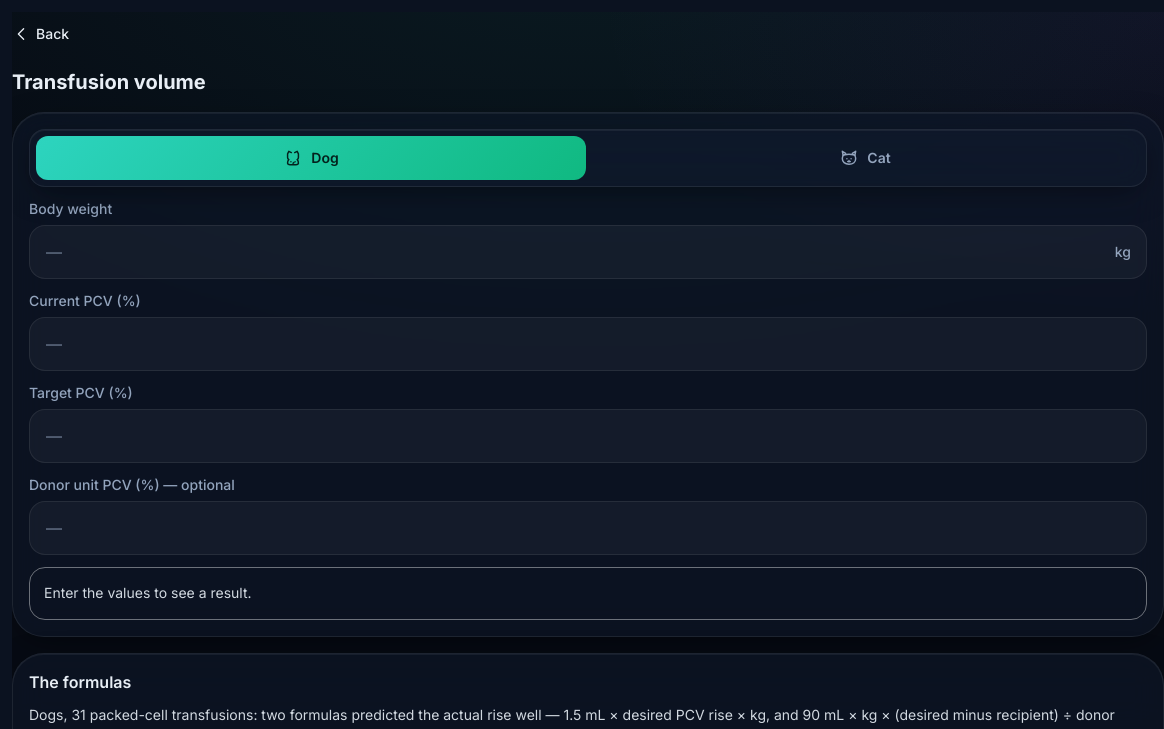
Test: bedside calculators › transfusion: 10 kg dog from 12% to 25% needs 195 mL of packed cells
Type "10" into the number field labelled "Body weight".
click(588, 252); type("10")  # box 29,225 -> 1147,279
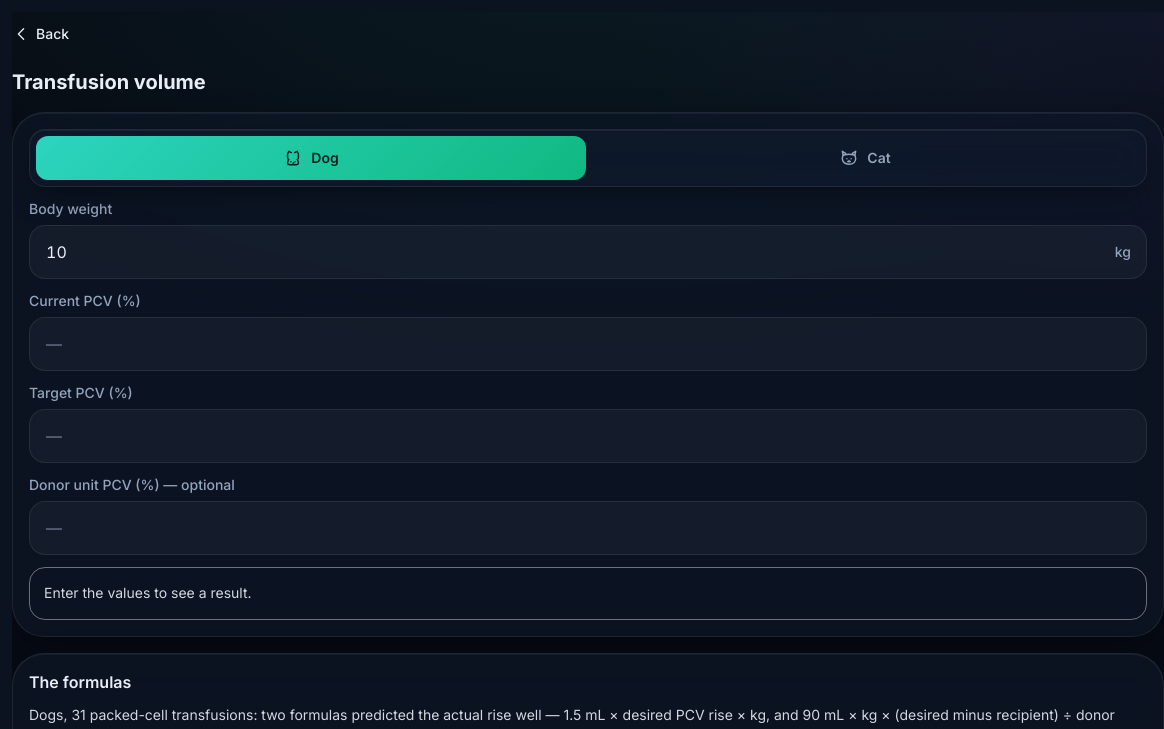
Type "12" into the number field labelled "Current PCV (%)".
click(588, 344); type("12")  # box 29,317 -> 1147,371
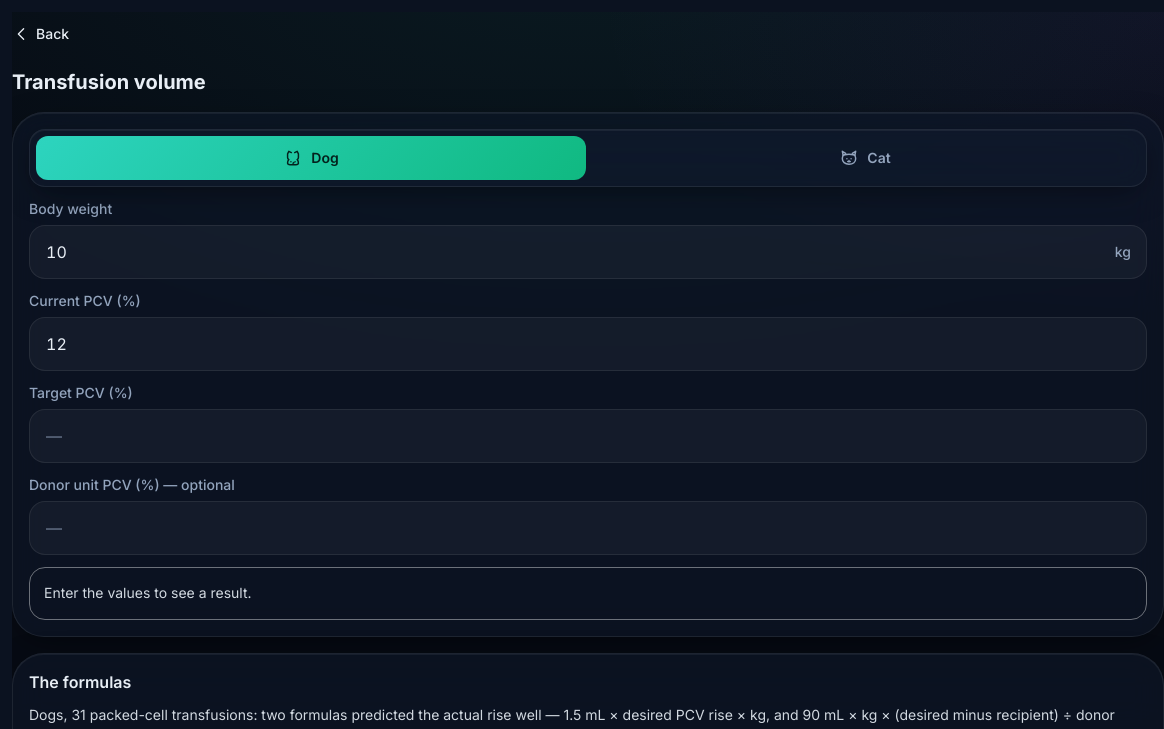
Type "25" into the number field labelled "Target PCV (%)".
click(588, 436); type("25")  # box 29,409 -> 1147,463
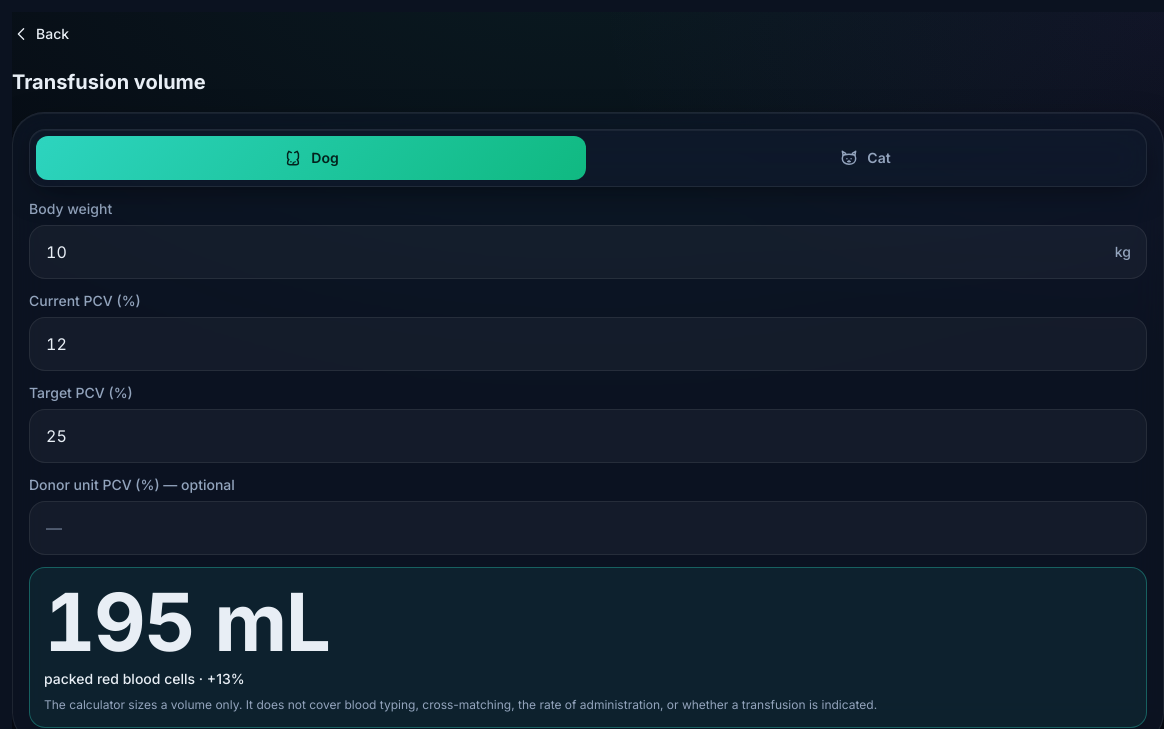
Expected: the message shows "195 mL", 44,573 -> 329,670
